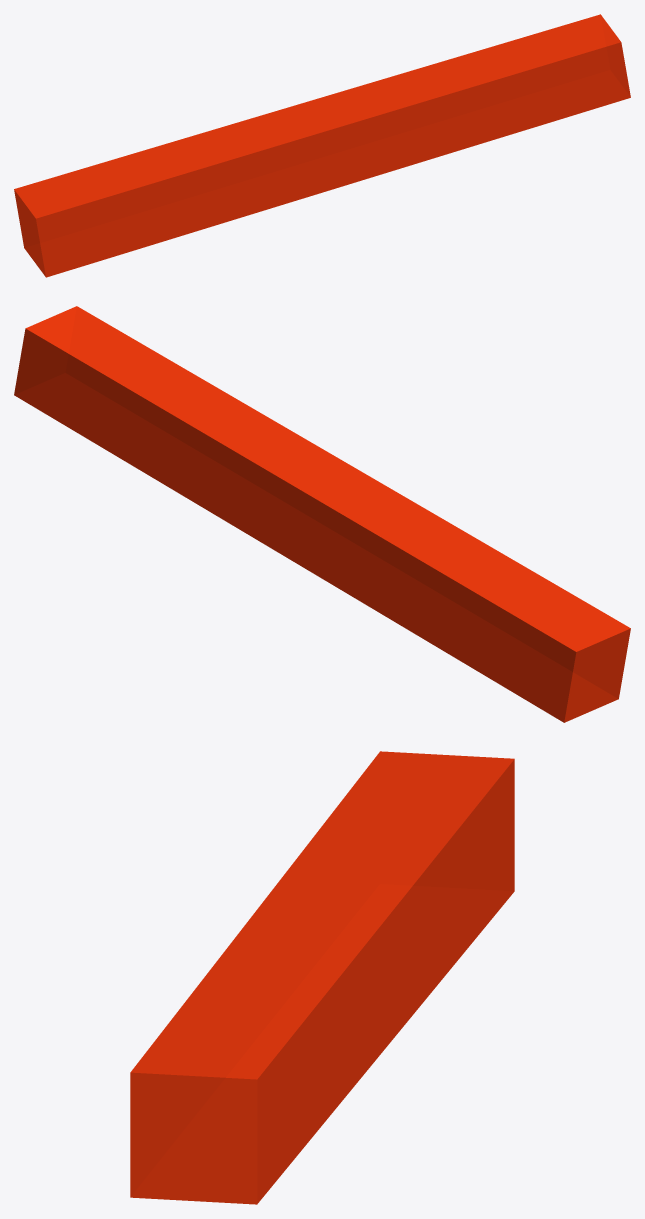
File: Event_420604493_EErechit_41.fbx
The picture shows the model from 3 angles, top to bottom: view 1: azimuth 30°, elevation 25°; view 2: azimuth 150°, elevation 25°; view 3: azimuth 270°, elevation 25°; orthographic projection. The views are drawn at different scales.
Visible parts, largest first — view 1: Model; view 2: Model; view 3: Model.
Part boxes in pixels (bbox=[...]): Model: bbox=[14, 14, 630, 277]; Model: bbox=[14, 306, 630, 722]; Model: bbox=[130, 751, 514, 1204].
Bounding box in the file's own units: 0.7029 × 0.1951 × 0.2154.
